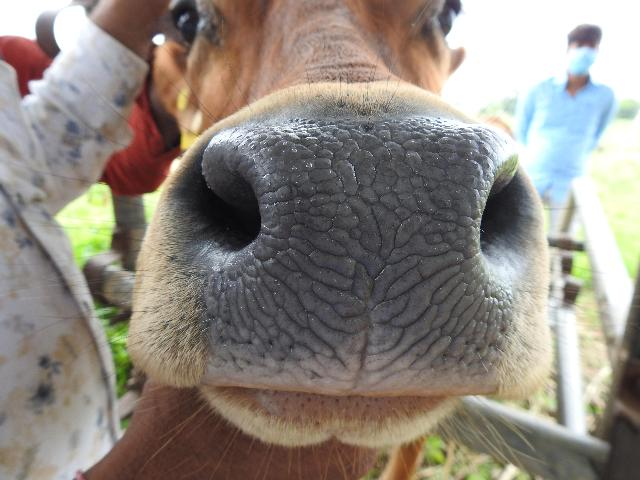Muzzle: (206, 125, 514, 378)
